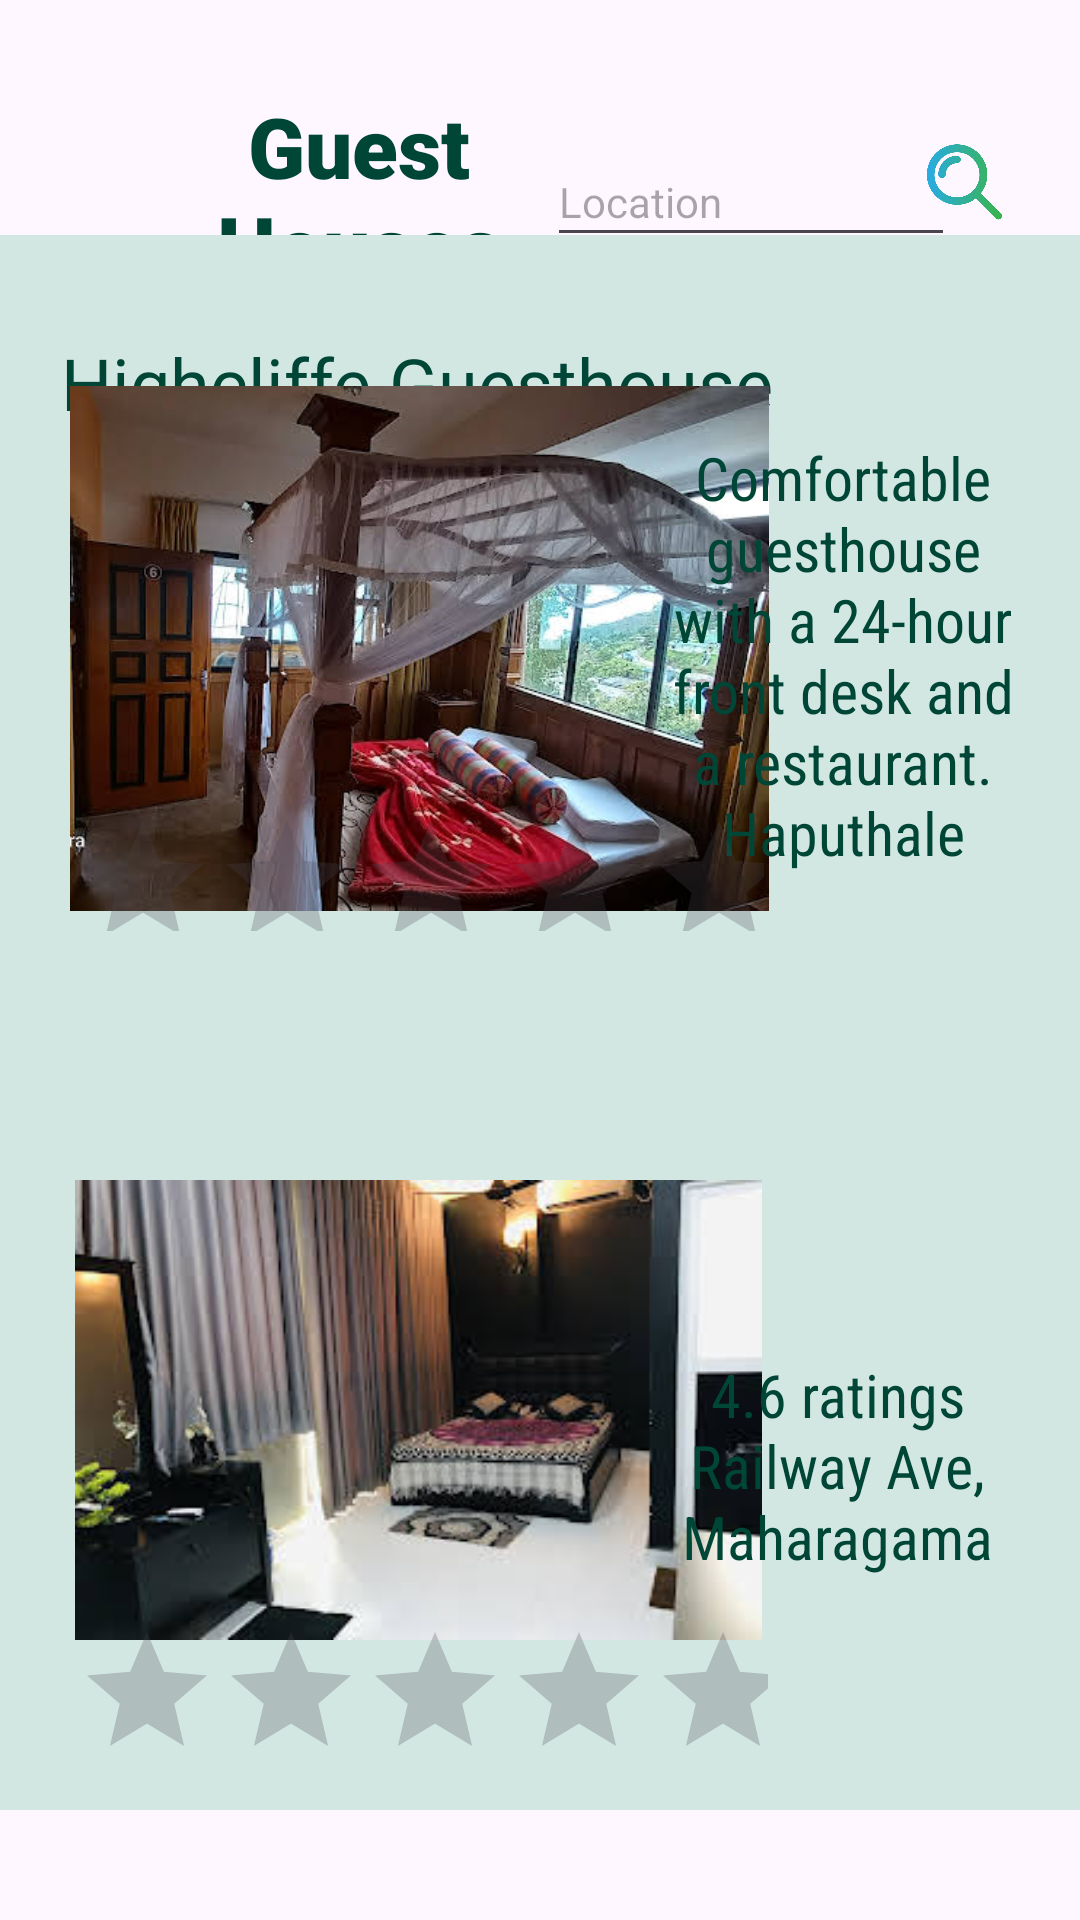

Point at icon controls on the screen. Image size 1080px x 1920px, points as point (x, y).
search: point (964, 182)
